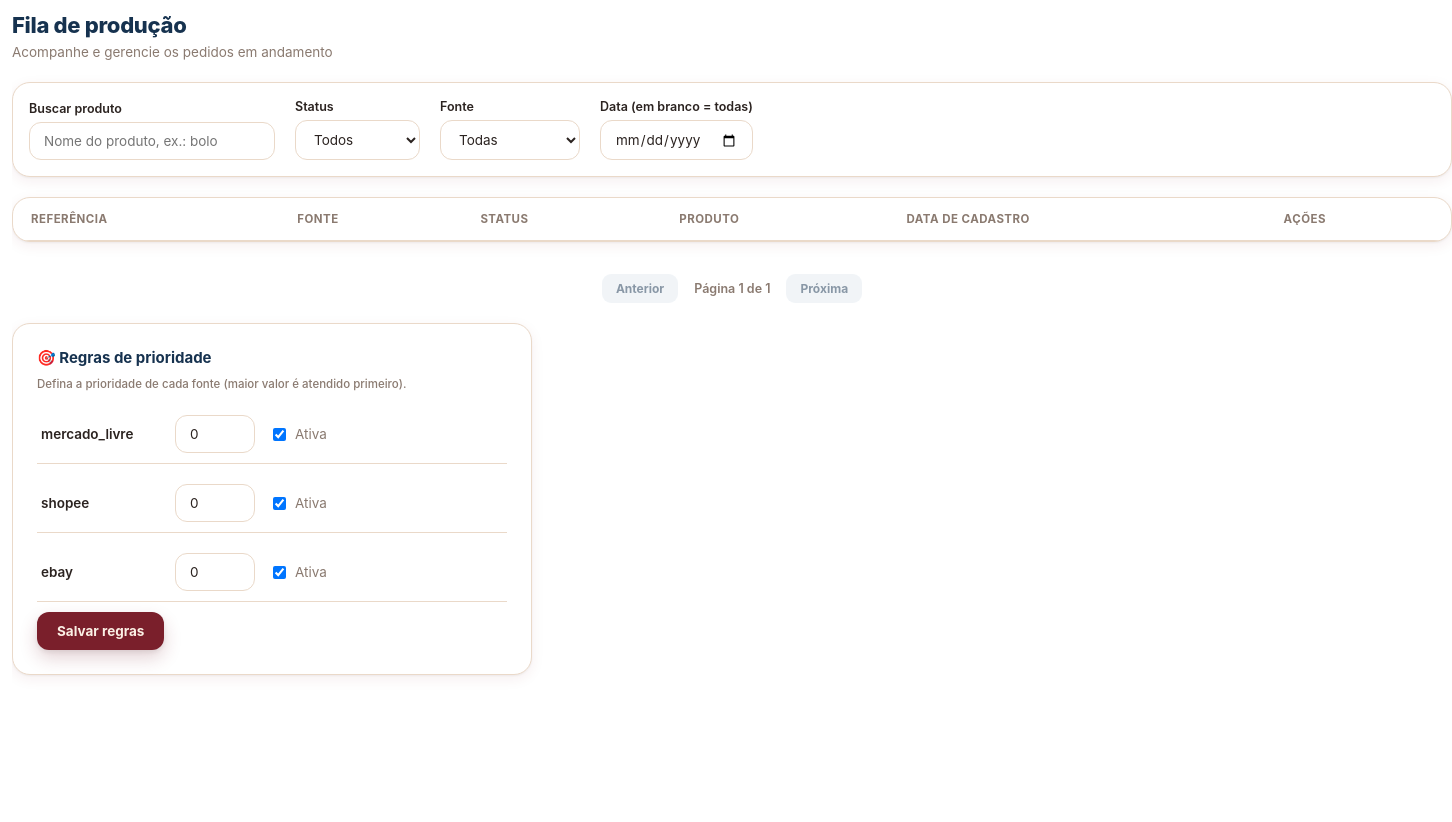
it: QueueManagementScreen › define as regras de prioridade e mostra a confirmação
Expected: the button with test id "priority-save" is shown, [37,612,164,650]
Replace the text in the number field with test id "priority-mercado_livre" with "2" at [215, 434], box [175,415,255,453]
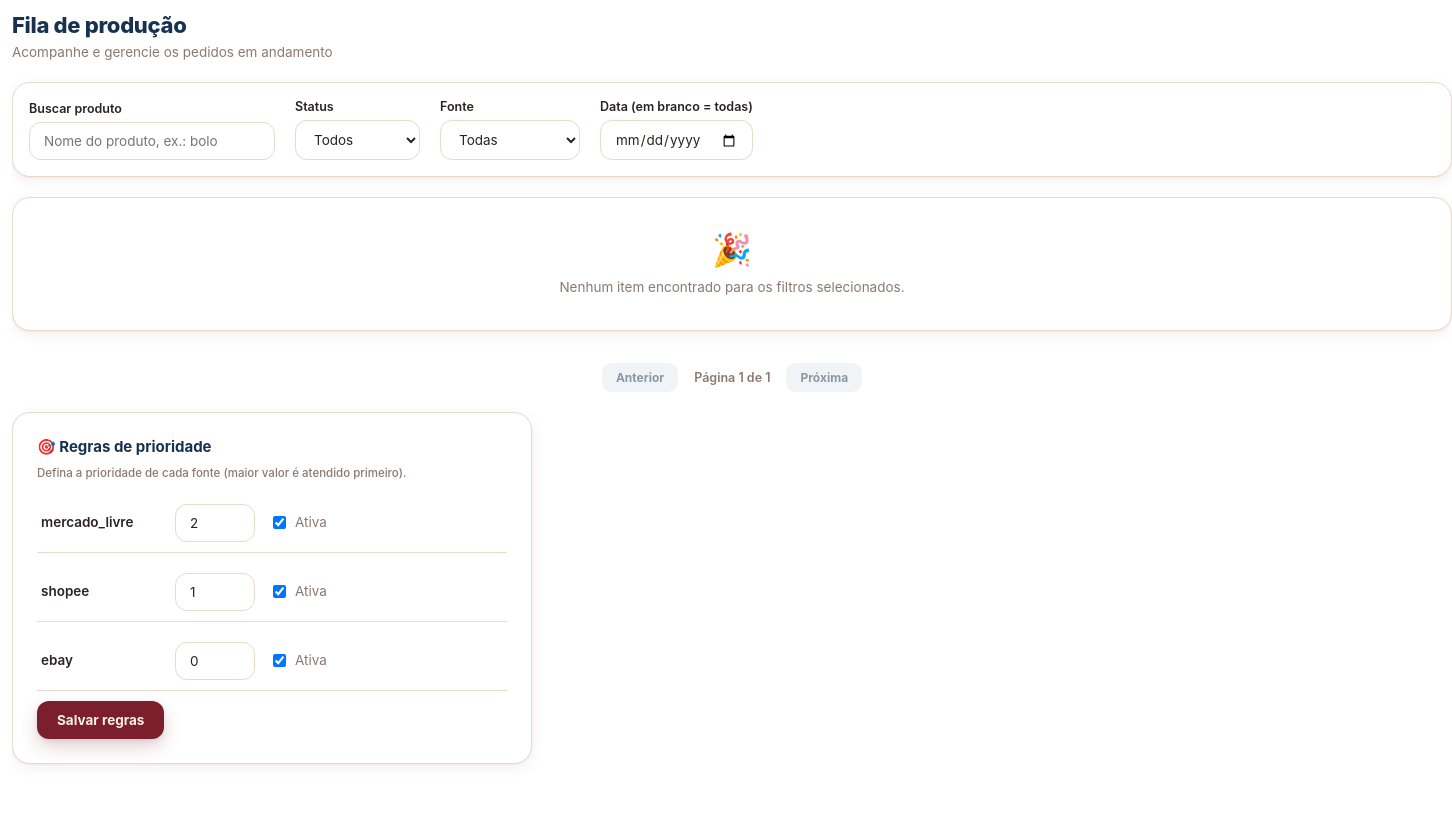
Click the button with test id "priority-save".
click(101, 720)  # box [37,700,164,738]
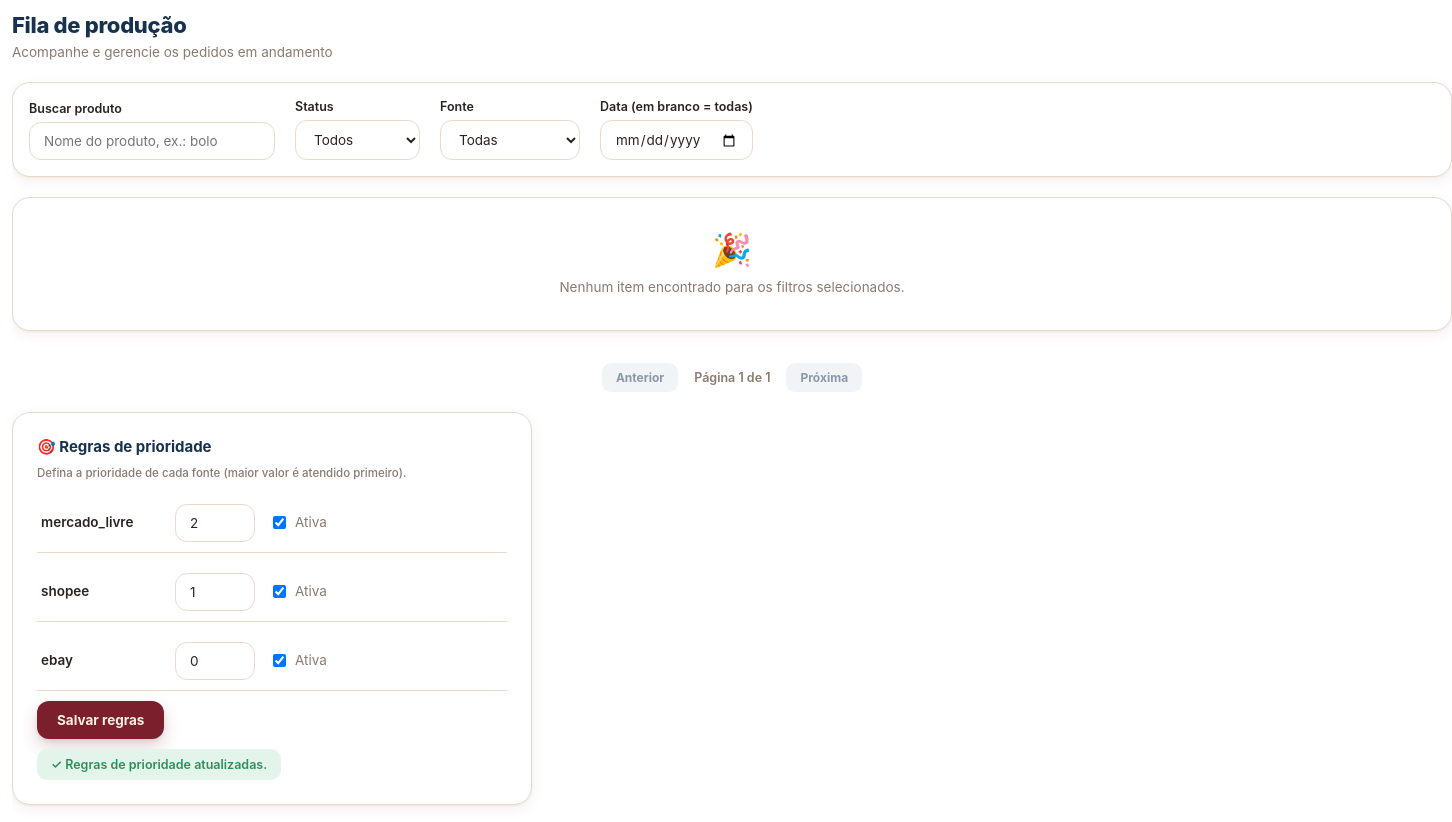
Expected: the text "Regras de prioridade atualizadas." is shown, [65,756,267,772]
